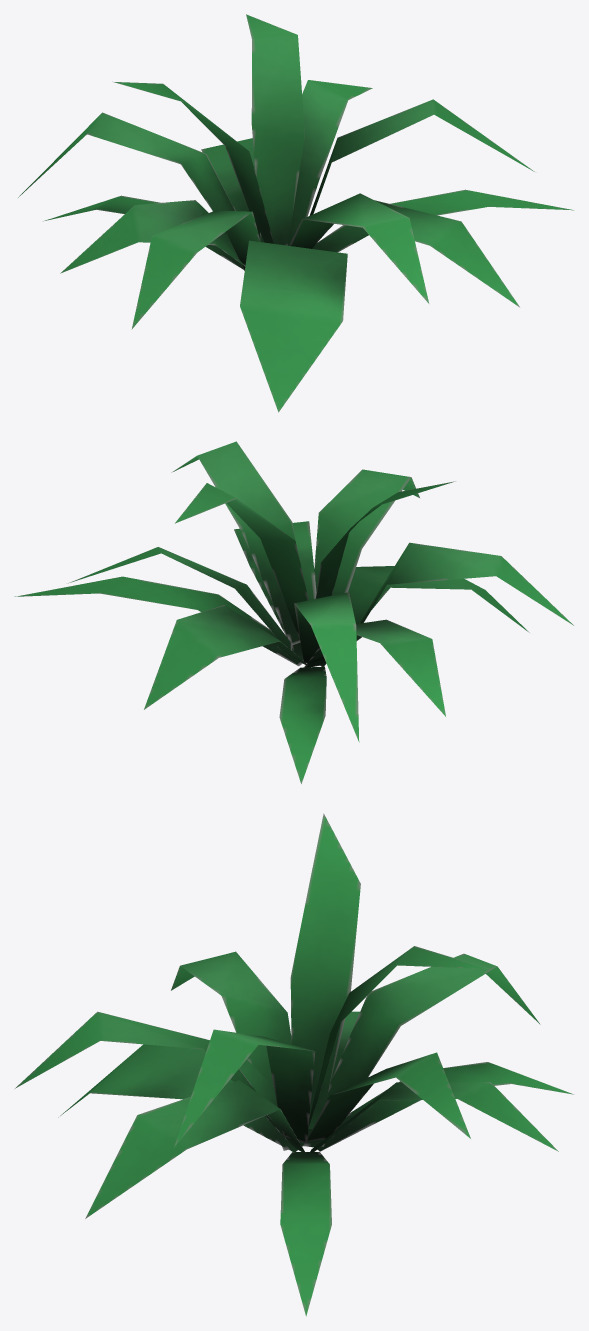
Rendered from grass2.obj.
3 renders of one model, top to bottom at view 1: azimuth 30°, elevation 25°; view 2: azimuth 150°, elevation 25°; view 3: azimuth 270°, elevation 25°, orthographic. The views are drawn at different scales.
Parts seen in each view (by area): view 1: Grass; view 2: Grass; view 3: Grass.
Boxes of the visible parts, x1,y1,x2,y2 form: Grass: (18,14,573,412); Grass: (14,441,573,783); Grass: (15,813,573,1316).
Bounding box in the file's own units: 0.7021 × 0.3375 × 0.6115.
Materials: 1 (1 with a texture image).
